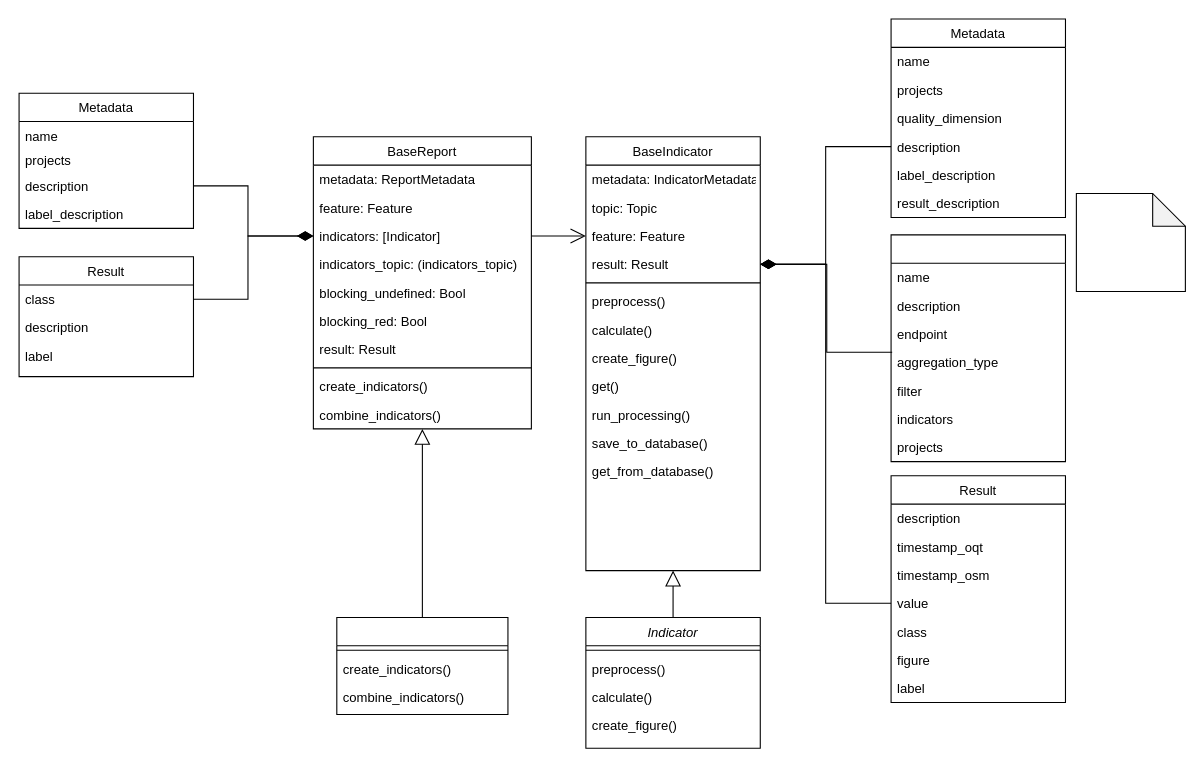
Image size: 1204x767. Some labels were removed from this diagram. Here are the shapes that lost their labels. From the top down, the box of each, then its label:
(1075, 192, 1185, 292): Topic represents OSM features retrived from ohsome API
(890, 234, 1065, 462): Topic
(336, 616, 508, 714): Report
